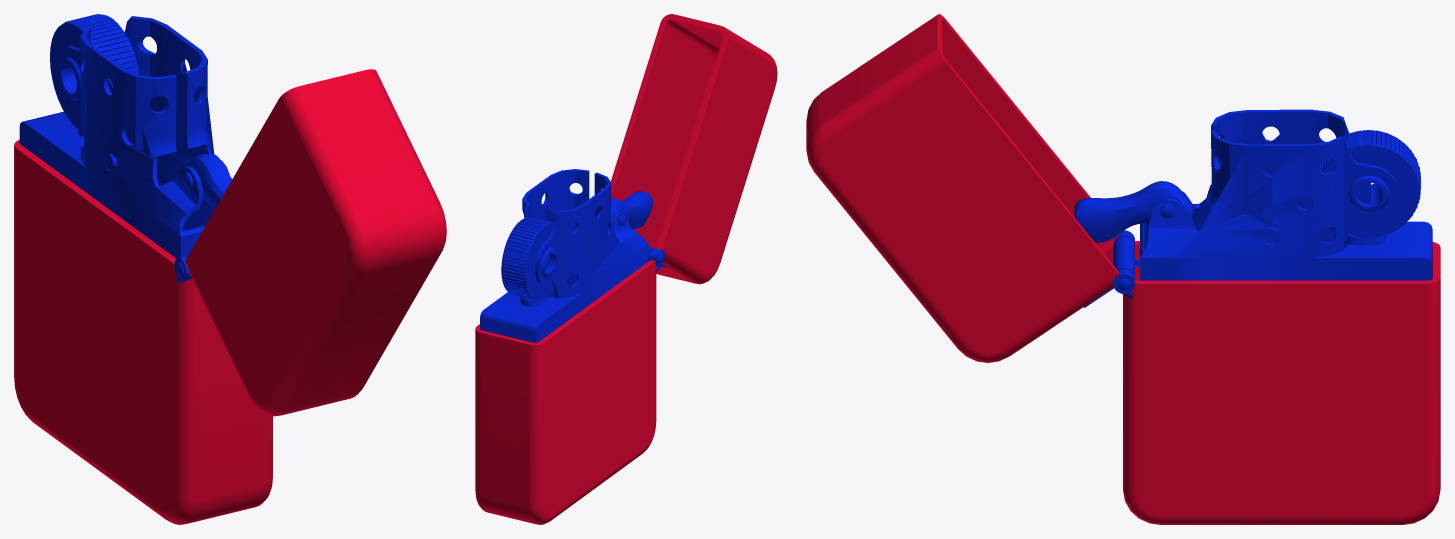
Rendered from lighterww2.fbx.
The picture shows the model from 3 angles, left to right: view 1: azimuth 30°, elevation 25°; view 2: azimuth 150°, elevation 25°; view 3: azimuth 270°, elevation 25°; orthographic projection. The views are drawn at different scales.
Visible parts, largest first — view 1: Cube.005, Cube.001, Cube.002, Cylinder, Cube.004, Cylinder.001; view 2: Cube.005, Cube.001, Cube.002, Cylinder, Cube.004, Cylinder.001; view 3: Cube.005, Cube.001, Cube.002, Cylinder, Cube.004, Cylinder.001, Cylinder.003.
Part boxes in pixels (<box>): Cube.005: <box>14,139,272,524</box>; Cube.001: <box>185,69,446,416</box>; Cube.002: <box>19,16,229,258</box>; Cylinder: <box>50,14,139,130</box>; Cube.004: <box>187,153,232,209</box>; Cylinder.001: <box>60,57,80,100</box>; Cube.005: <box>475,260,656,524</box>; Cube.001: <box>610,14,777,284</box>; Cube.002: <box>480,169,648,343</box>; Cylinder: <box>501,217,553,300</box>; Cube.004: <box>611,191,653,229</box>; Cylinder.001: <box>541,247,557,277</box>; Cube.005: <box>1123,241,1440,524</box>; Cube.001: <box>806,14,1118,362</box>; Cube.002: <box>1140,109,1432,280</box>; Cylinder: <box>1319,130,1420,237</box>; Cube.004: <box>1074,181,1193,242</box>; Cylinder.001: <box>1349,175,1388,212</box>; Cylinder.003: <box>1083,237,1134,307</box>.
Bounding box in the file's own units: 144 × 691 × 831.
